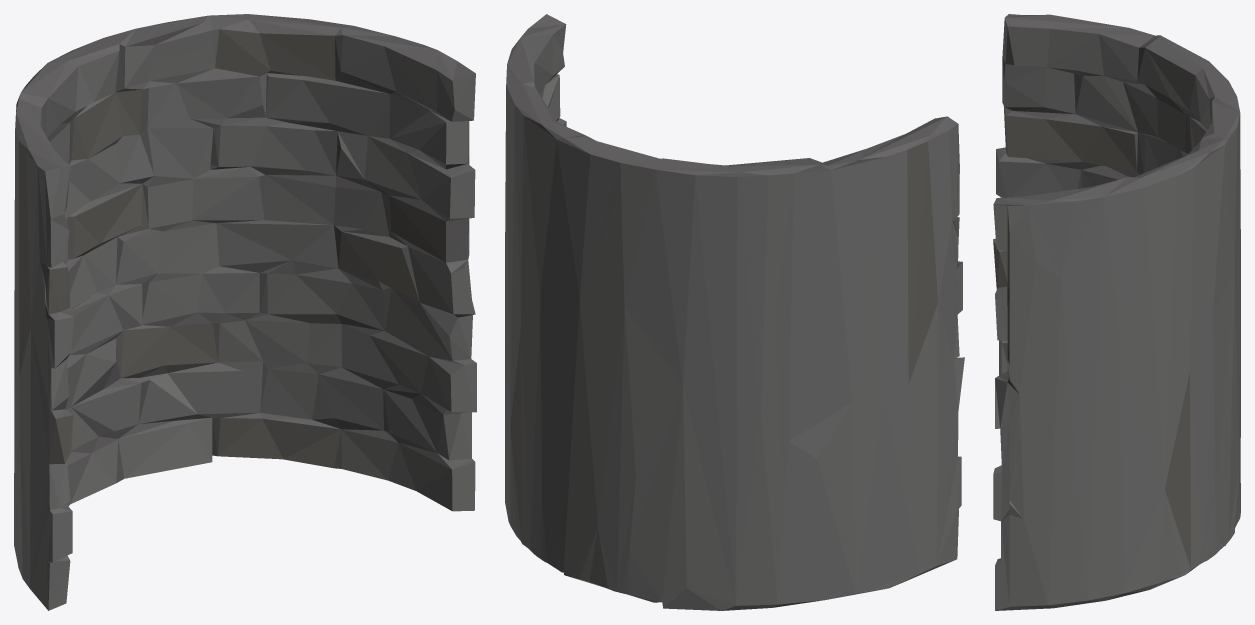
The model's file is SM_Env_Wall_Alcove_Round_01.glb.
3 views of the same model, side by side, from view 1: azimuth 30°, elevation 25°; view 2: azimuth 150°, elevation 25°; view 3: azimuth 270°, elevation 25° (orthographic). The views are drawn at different scales.
Visible parts, largest first — view 1: SM_Env_Wall_Alcove_Round_01; view 2: SM_Env_Wall_Alcove_Round_01; view 3: SM_Env_Wall_Alcove_Round_01.
Boxes of the visible parts, left/top/right/bottom form: SM_Env_Wall_Alcove_Round_01: left=14, top=14, right=476, bottom=610; SM_Env_Wall_Alcove_Round_01: left=505, top=14, right=964, bottom=610; SM_Env_Wall_Alcove_Round_01: left=993, top=14, right=1240, bottom=610.
Size of the model in its own units: 0.0506 by 0.0507 by 0.0275.
Materials: 1 (1 with a texture image).
